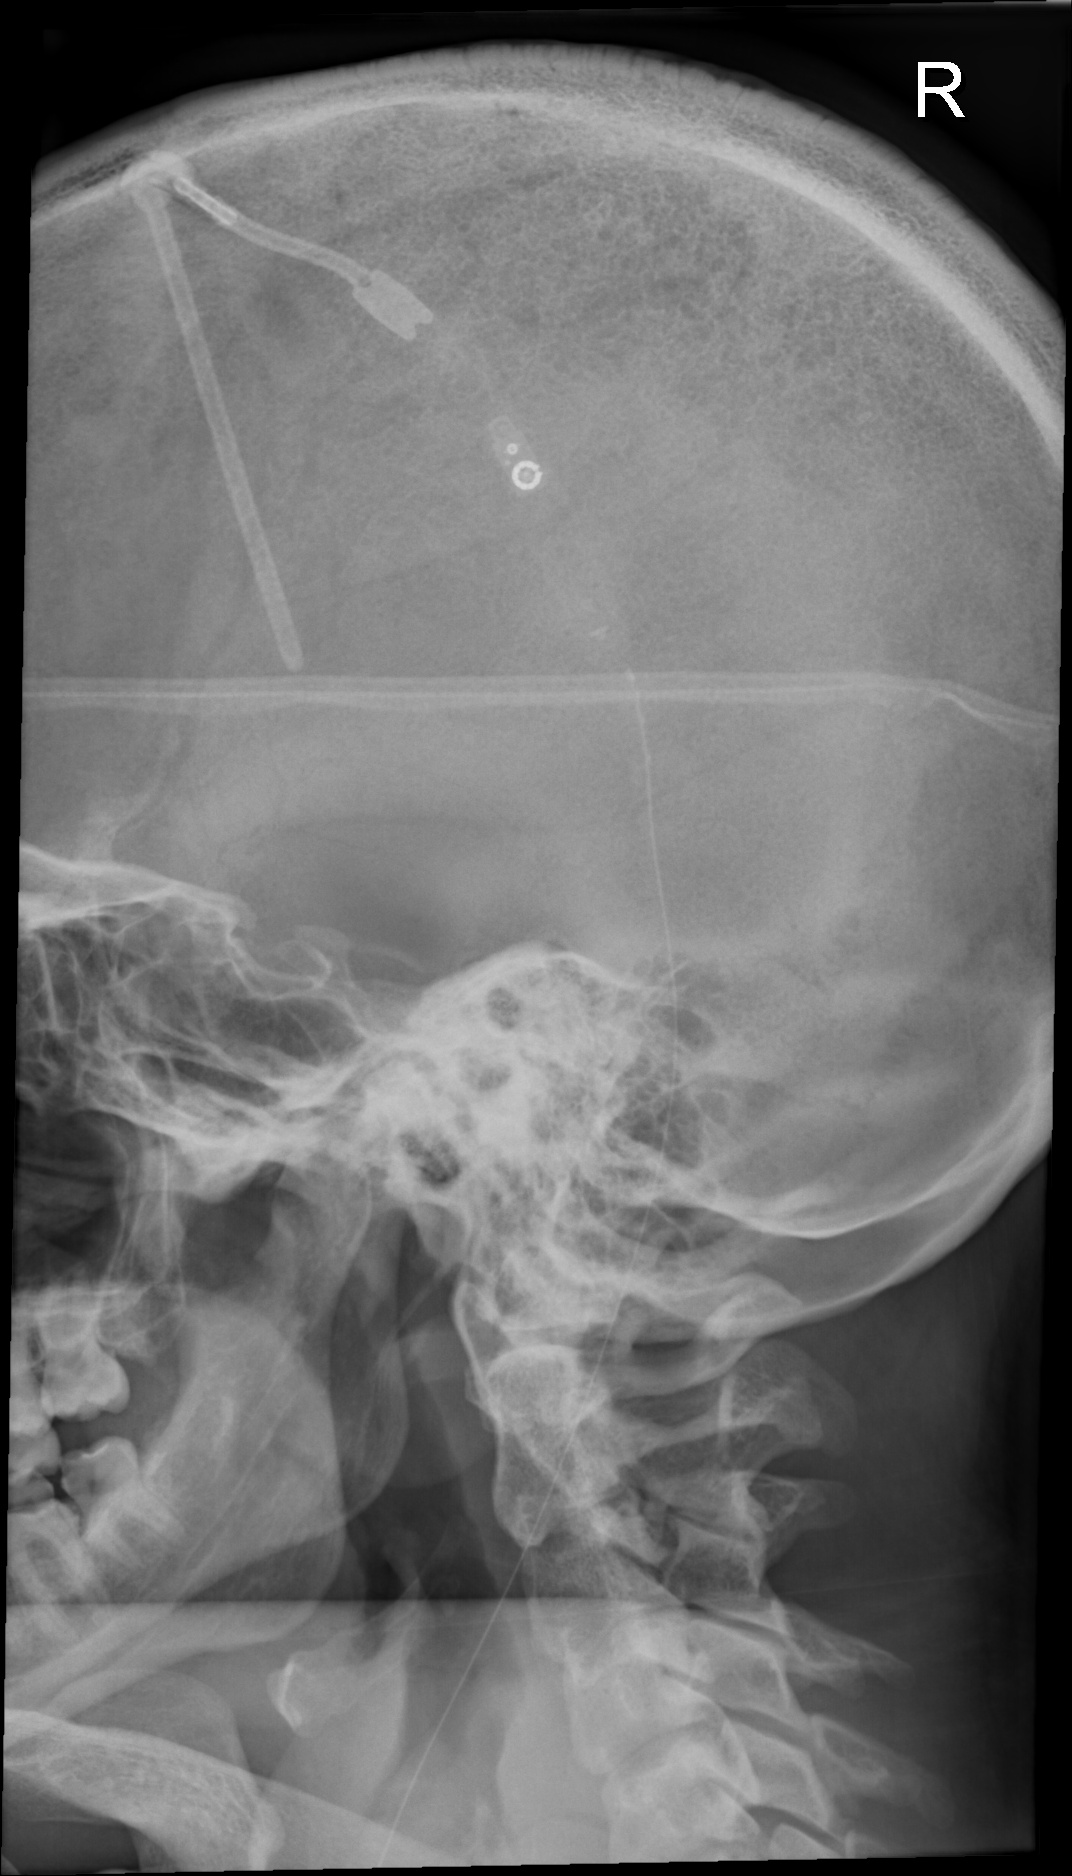Codman Hakim: (484, 428, 560, 521)
